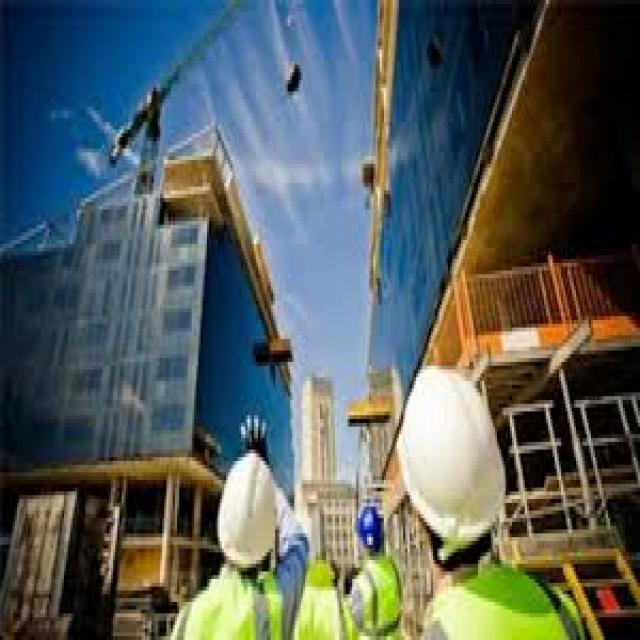reflective_jacket: (420, 560, 584, 639), (183, 571, 285, 639)
safety_helmet: (395, 357, 510, 552), (215, 445, 279, 571), (351, 502, 384, 552)
